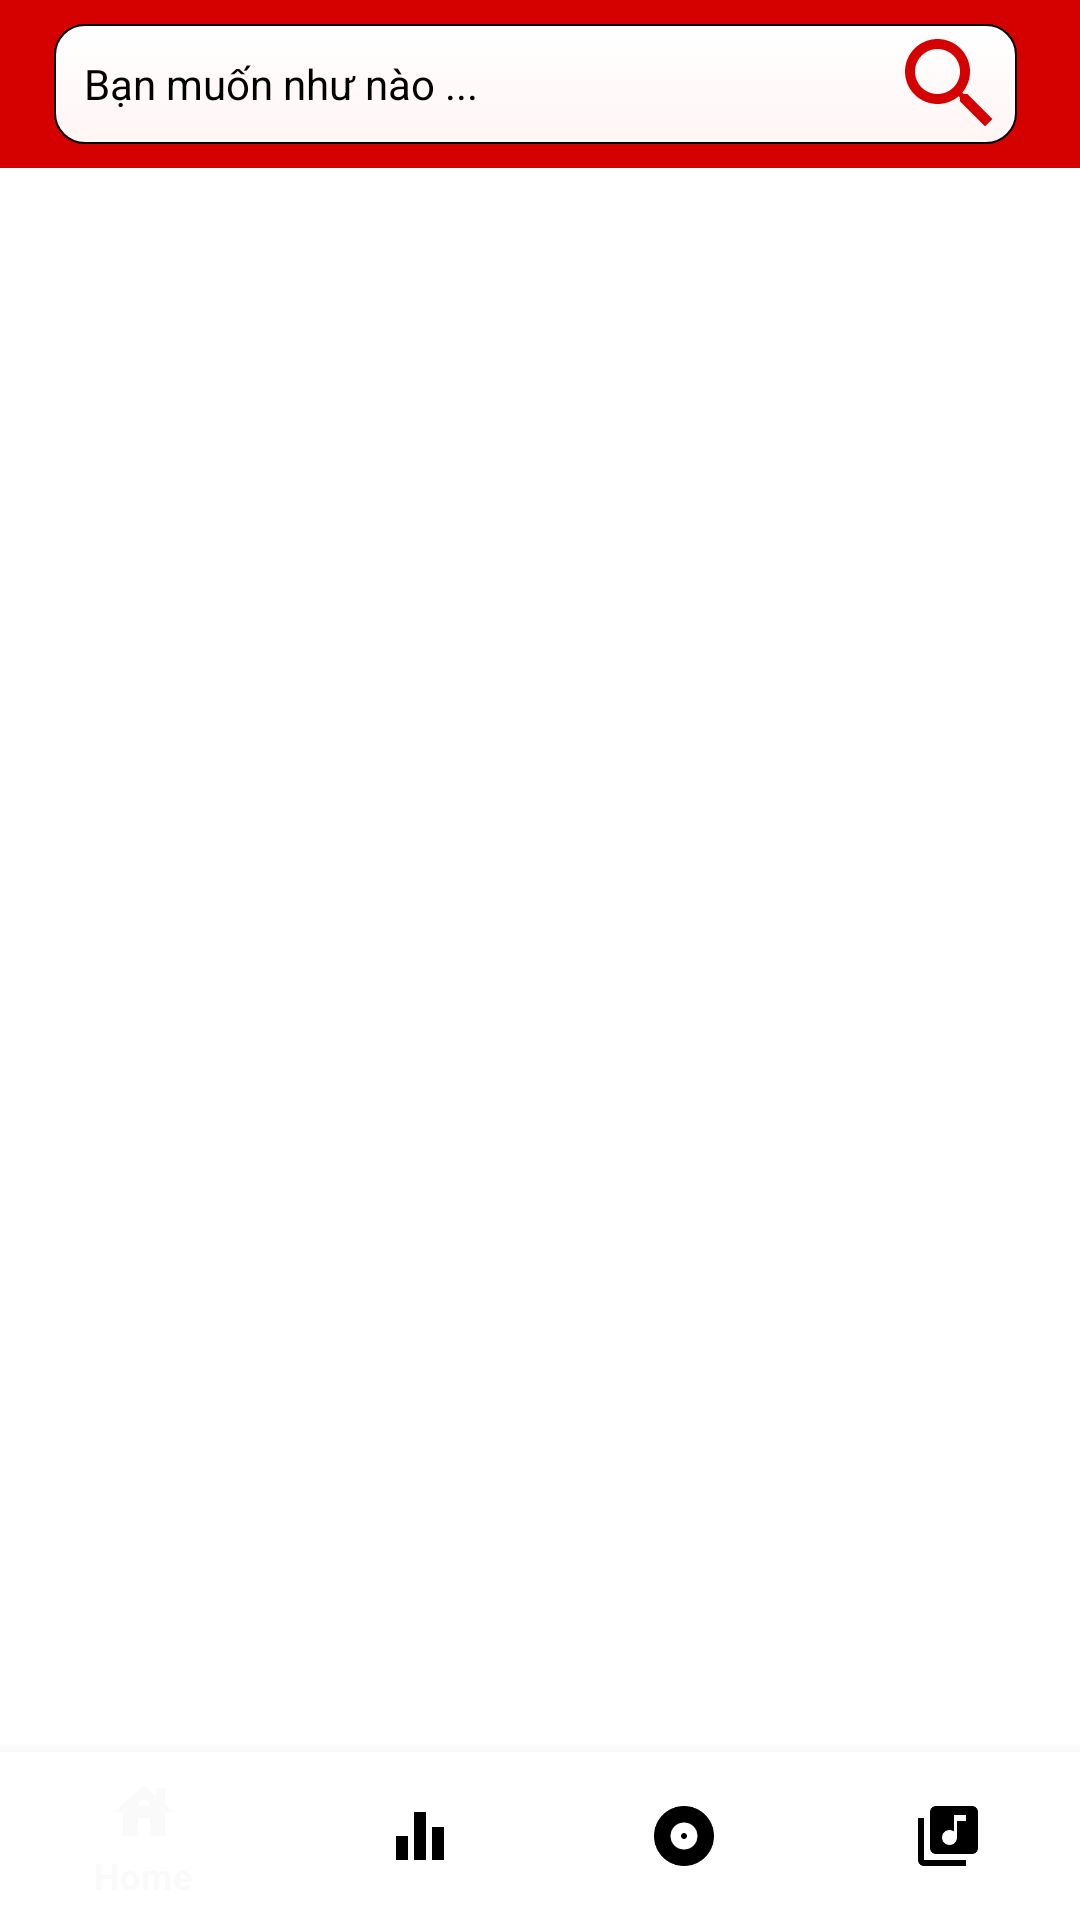

Locate icon controls on the screen. Image size 1080 x 1920, boxes as (x1, y1, x2, y2).
search: (882, 24, 1017, 144)
